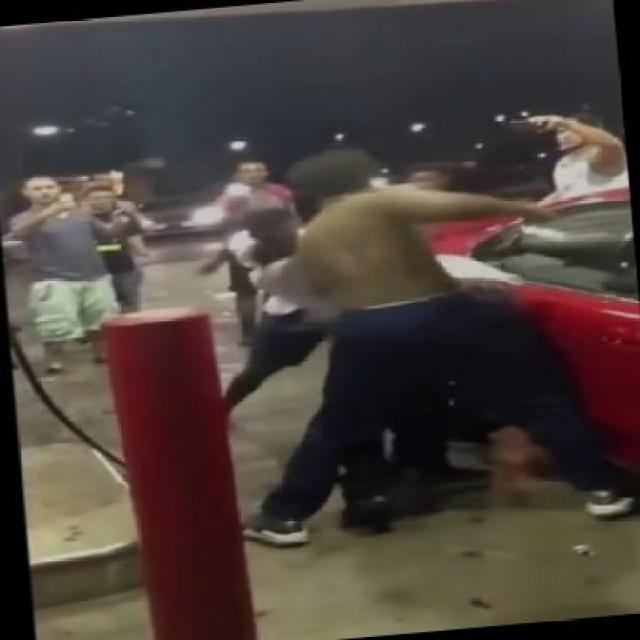fight: (183, 97, 639, 581)
